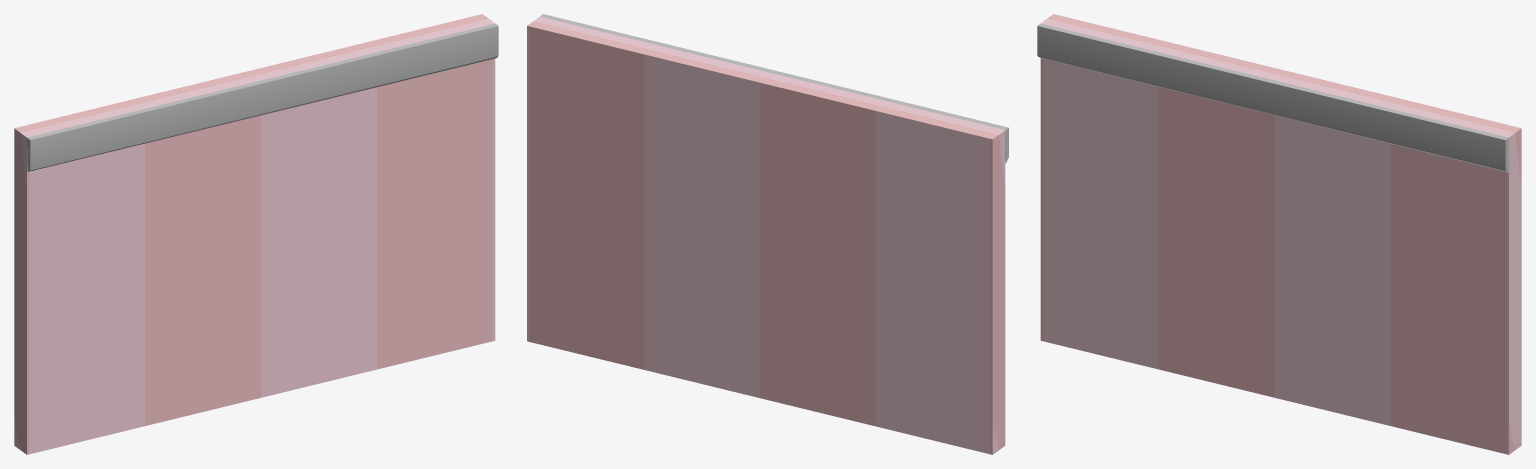
Rendered from Wall Interior Extension.fbx.
The picture shows the model from 3 angles, left to right: view 1: azimuth 30°, elevation 25°; view 2: azimuth 150°, elevation 25°; view 3: azimuth 330°, elevation 25°; orthographic projection.
Visible parts, largest first — view 1: Wall_Interior_Extension; view 2: Wall_Interior_Extension; view 3: Wall_Interior_Extension.
Boxes of the visible parts, <box> form: Wall_Interior_Extension: <box>14,14,498,454</box>; Wall_Interior_Extension: <box>527,14,1008,454</box>; Wall_Interior_Extension: <box>1037,14,1521,454</box>.
Size of the model in its own units: 1 by 0.6475 by 0.0602.
